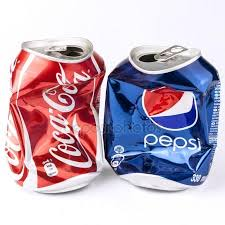can: (109, 39, 220, 202), (6, 38, 105, 200)
